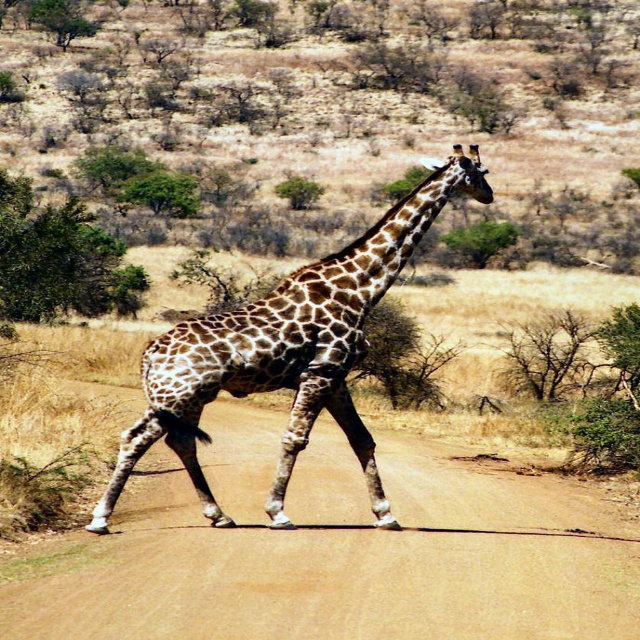Giraffe: (81, 141, 493, 534)
